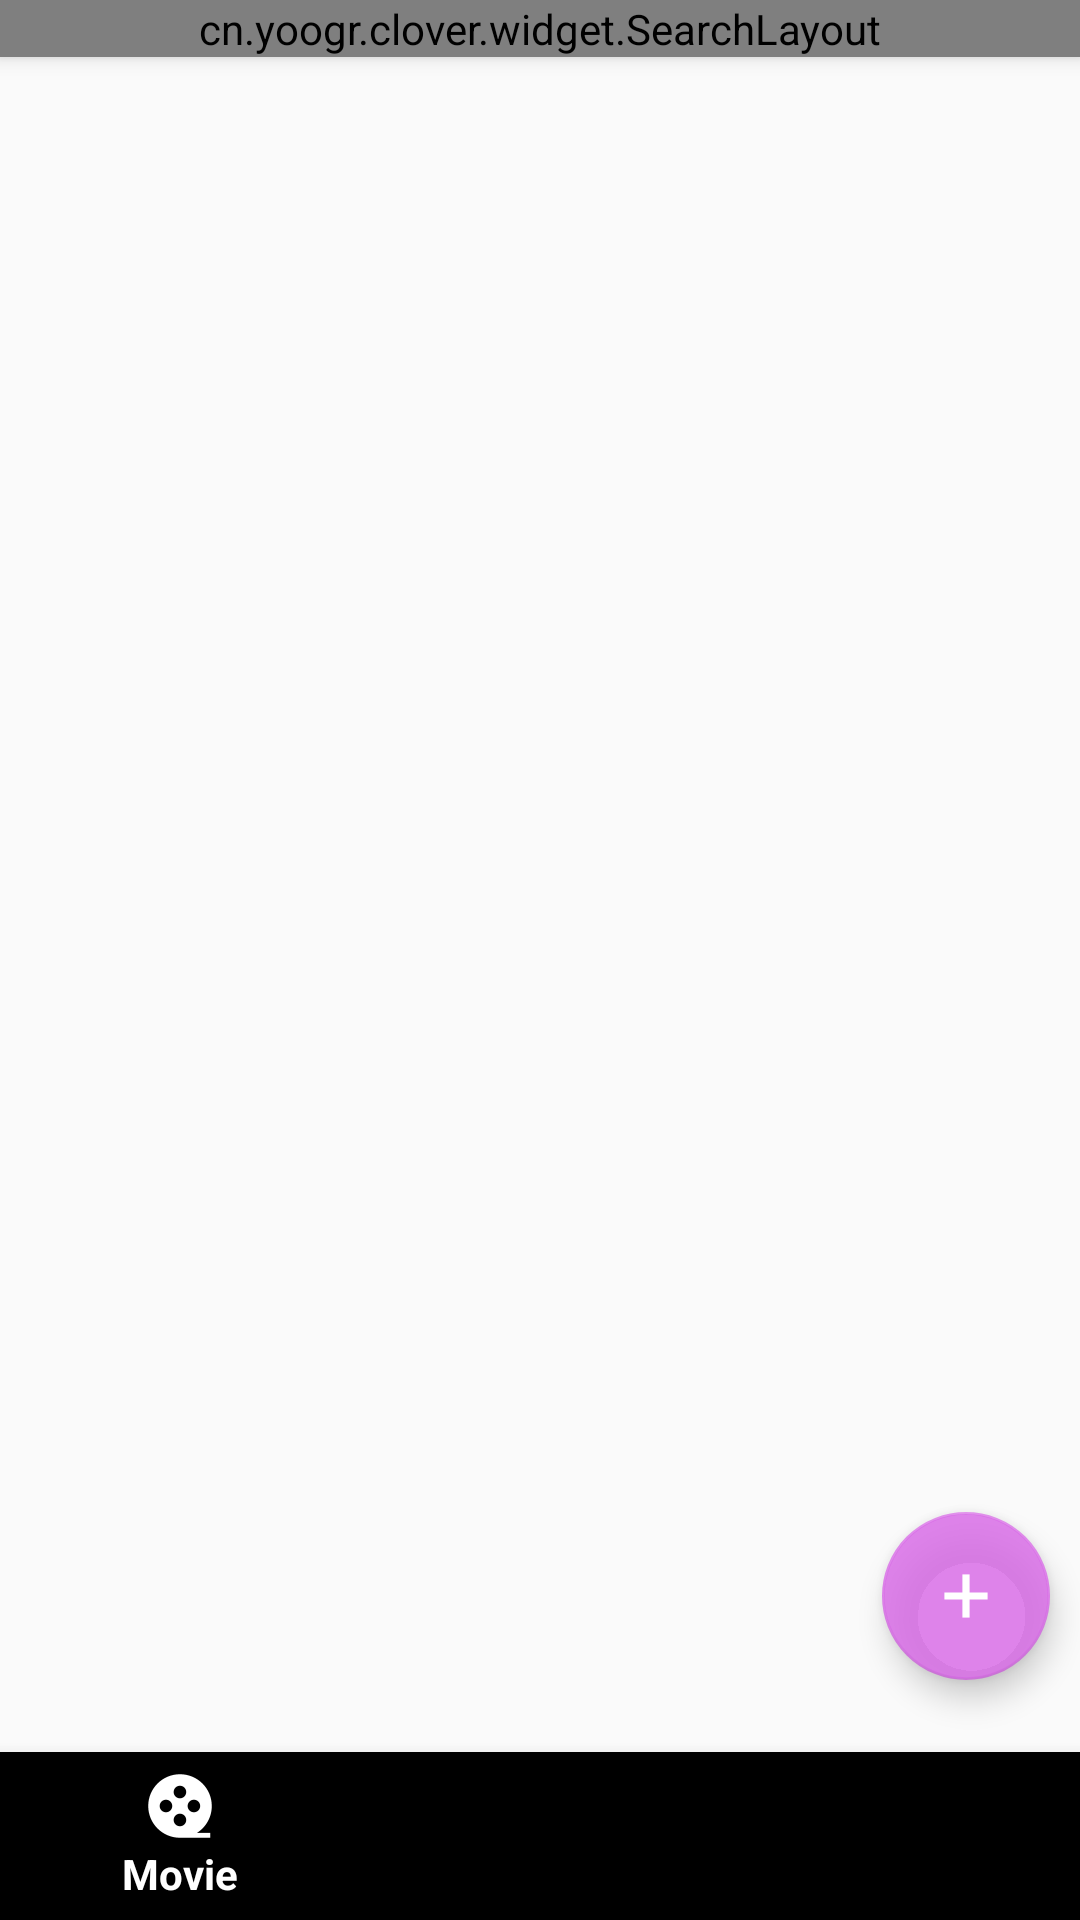

Locate icon controls on the screen. Image size 1080 x 1920, boxes as (x1, y1, x2, y2).
add: (882, 1512, 1050, 1680)
